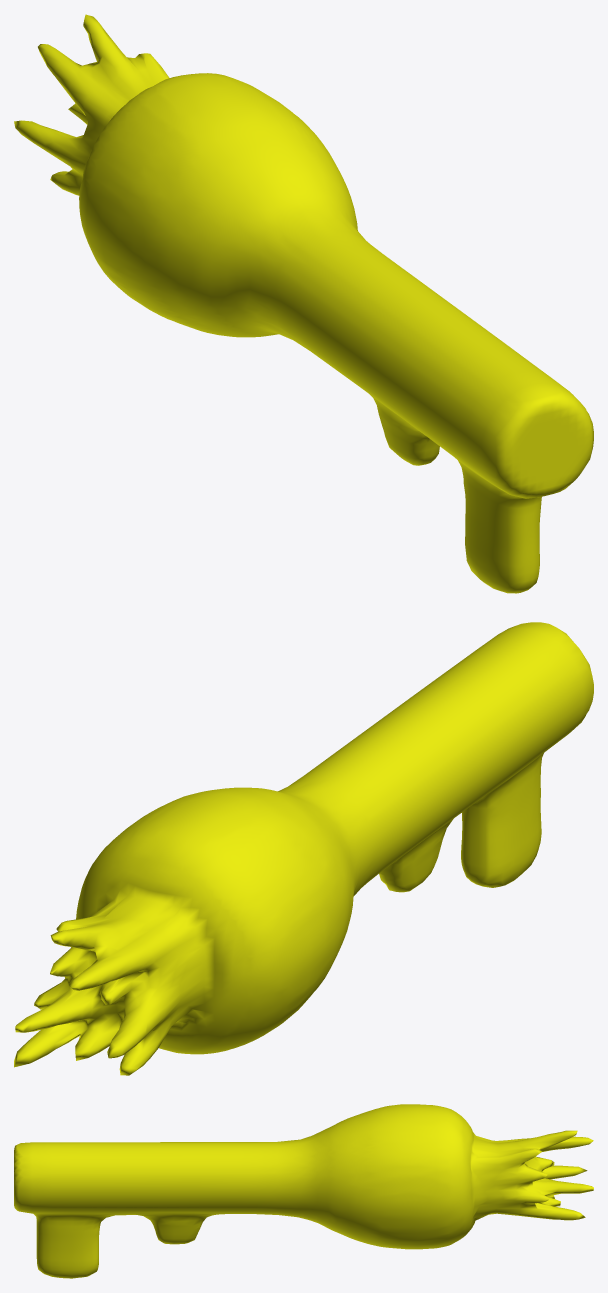
Rendered from key.fbx.
The picture shows the model from 3 angles, top to bottom: view 1: azimuth 30°, elevation 25°; view 2: azimuth 150°, elevation 25°; view 3: azimuth 270°, elevation 25°; orthographic projection. The views are drawn at different scales.
Parts seen in each view (by area): view 1: key_low; view 2: key_low; view 3: key_low.
Boxes of the visible parts, x1,y1,x2,y2 form: key_low: [14, 14, 593, 593]; key_low: [14, 622, 593, 1075]; key_low: [14, 1104, 593, 1278].
Size of the model in its own units: 59.99 by 75.98 by 241.
